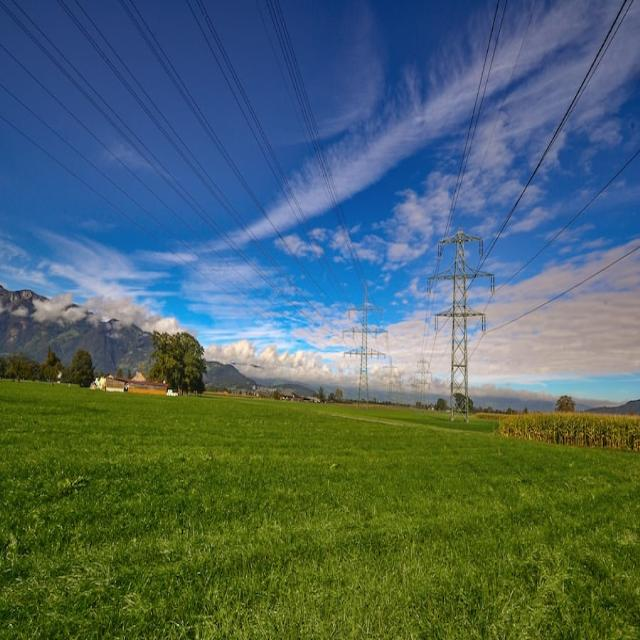transmission tower: (405, 194, 508, 439), (329, 276, 393, 412)
